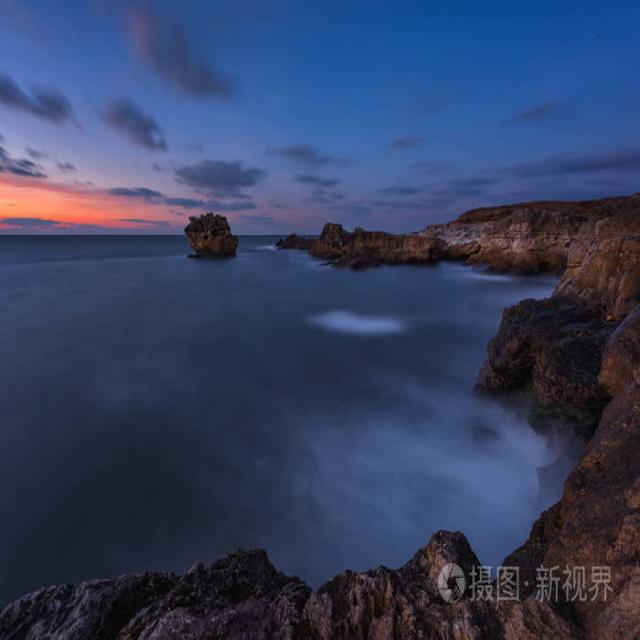reef: (288, 205, 445, 263), (192, 195, 248, 262)
